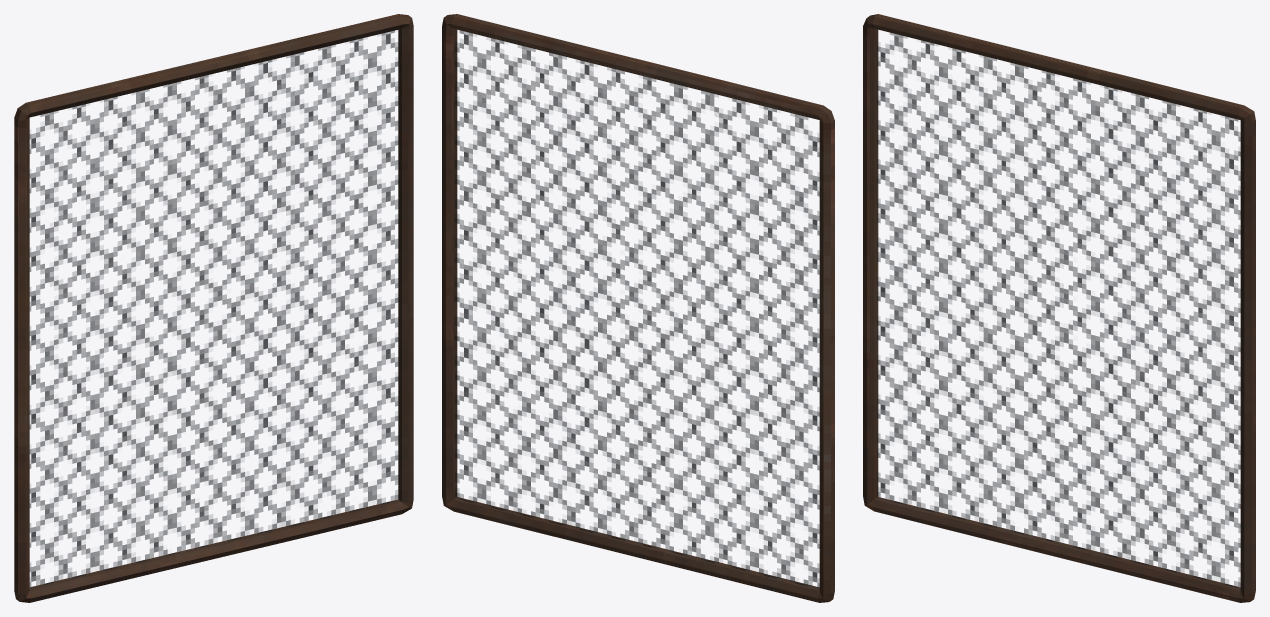
Rendered from gate.glb.
The picture shows the model from 3 angles, left to right: view 1: azimuth 30°, elevation 25°; view 2: azimuth 150°, elevation 25°; view 3: azimuth 330°, elevation 25°; orthographic projection.
Parts seen in each view (by area): view 1: gate; view 2: gate; view 3: gate.
Boxes of the visible parts, box(x1,y1,x2,y2) form: gate: box(14, 14, 413, 602); gate: box(442, 14, 834, 602); gate: box(863, 14, 1255, 602).
Size of the model in its own units: 1.03 by 1.25 by 0.0453.
2 materials, 2 textured.
